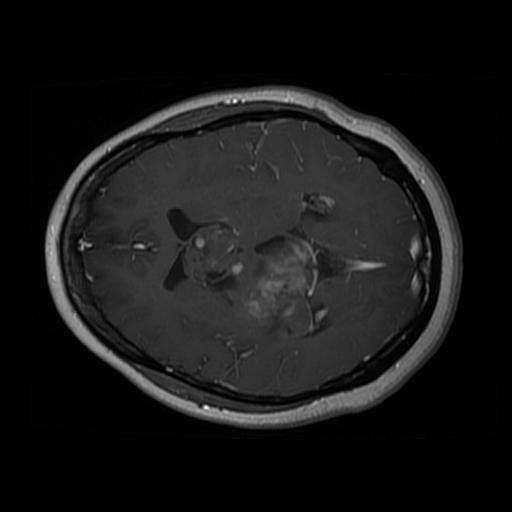glioma: (232, 232, 320, 328)
